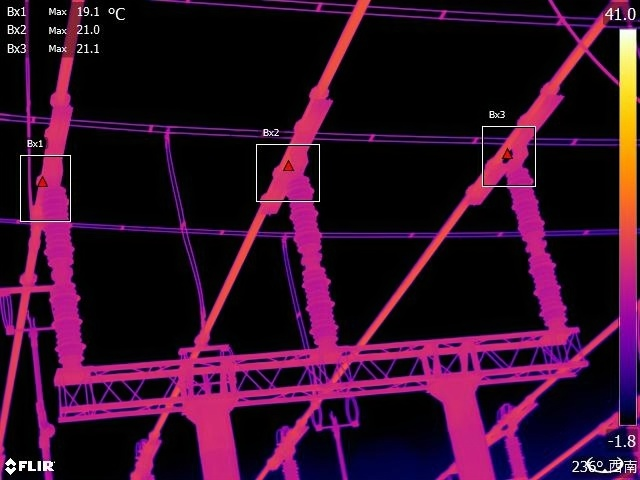clamp: (157, 116, 176, 148), (276, 222, 290, 248)
post insulator: (285, 172, 350, 349), (37, 175, 91, 370), (505, 163, 569, 326), (502, 430, 529, 480), (283, 454, 299, 480)
